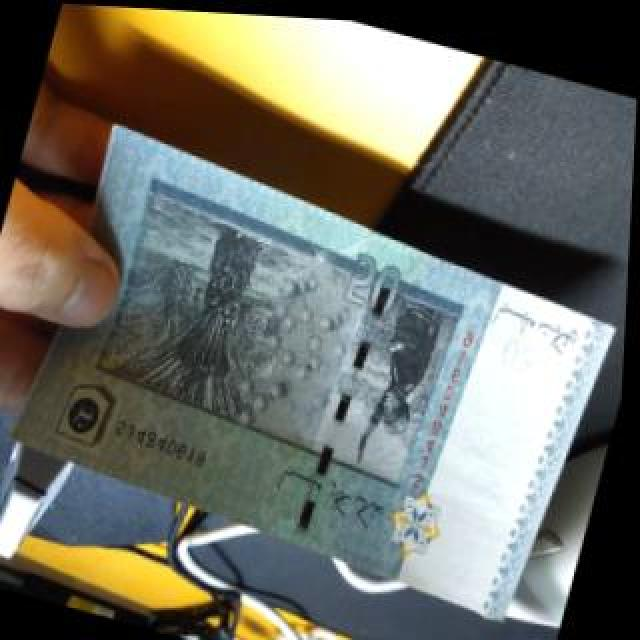50 Ringgit: (0, 104, 636, 640)
